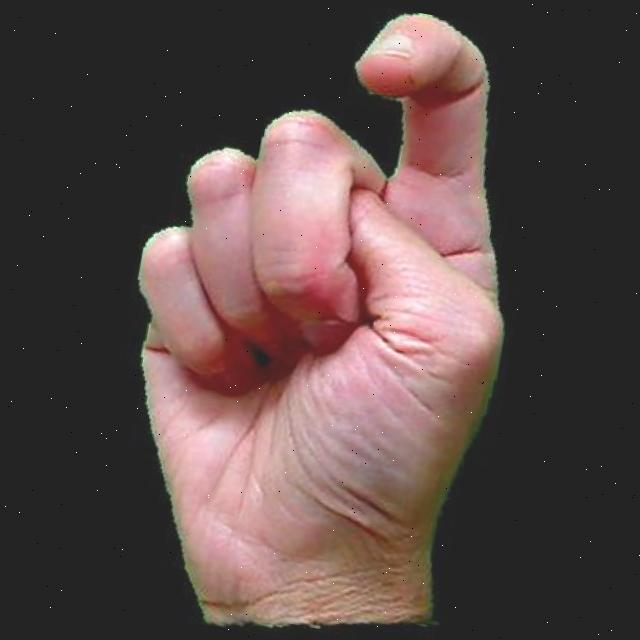x: (73, 0, 563, 640)
